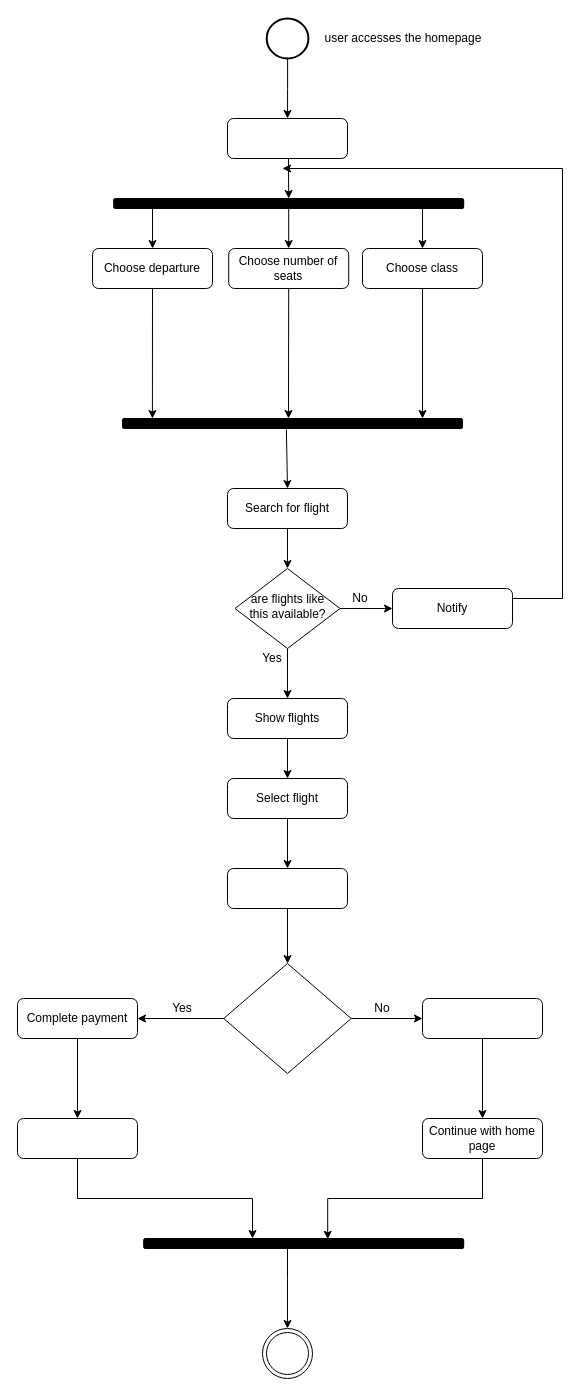
Some shapes in this 588 by 1396 pixel diagram are drawn without their labels. The centre of each missing label's shape, as x and y in pixels:
Choose destination: (287,138)
Complete personal information and payment: (482,1018)
Continue reservation: (287,888)
Continue reservation history page: (77,1138)
is the user logged in?: (287,1018)
